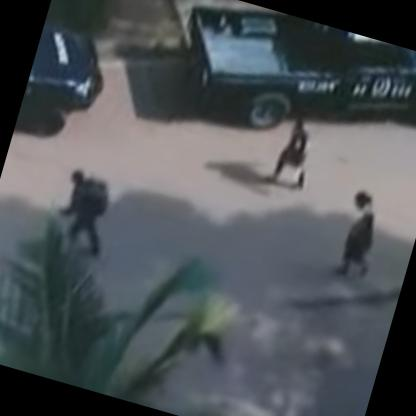Human Body: (43, 157, 131, 268), (326, 183, 396, 291), (255, 105, 332, 202)
